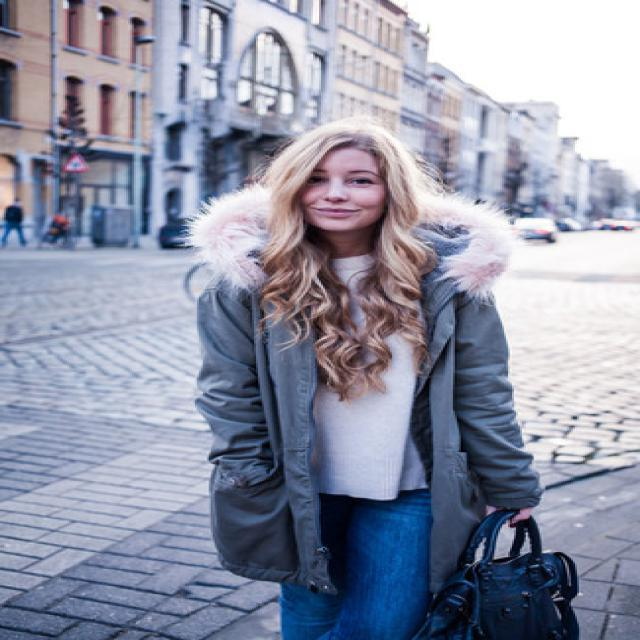coat: (193, 195, 547, 599)
sweater: (298, 245, 437, 505)
trousers: (273, 489, 452, 640)
